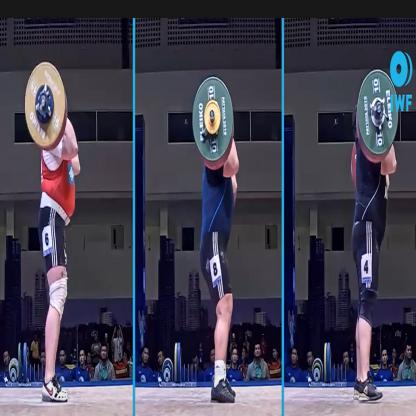Barbell: (22, 54, 72, 156), (353, 65, 401, 167), (190, 73, 236, 175)
